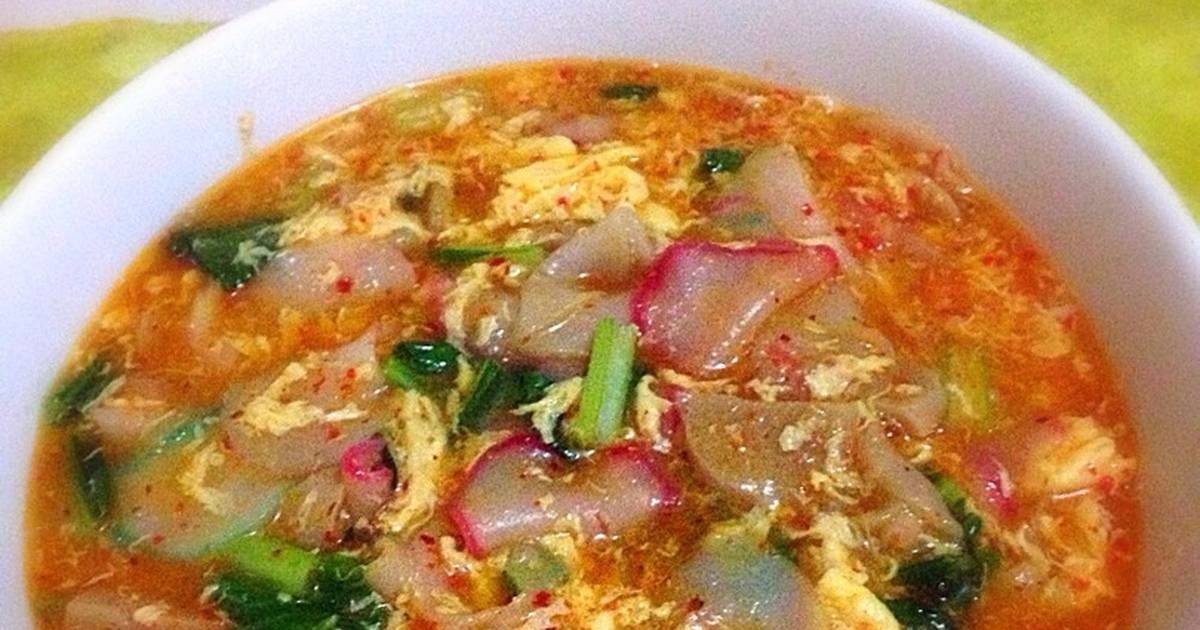seblak: (27, 60, 1135, 630)
